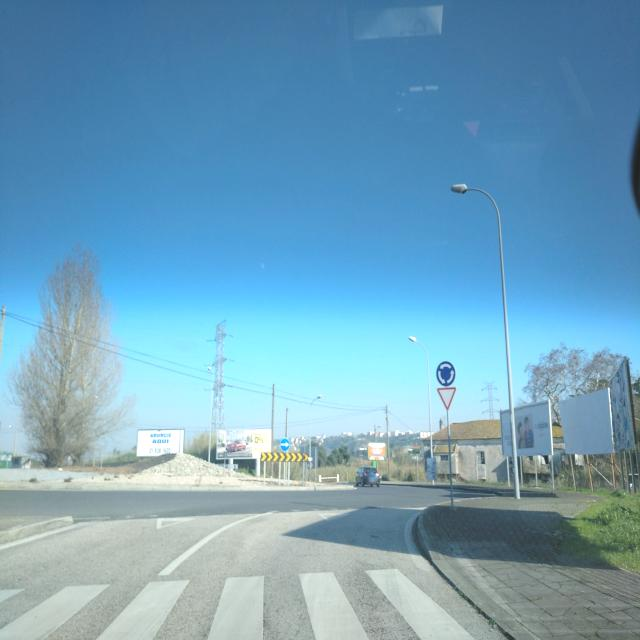car: (354, 465, 381, 487)
